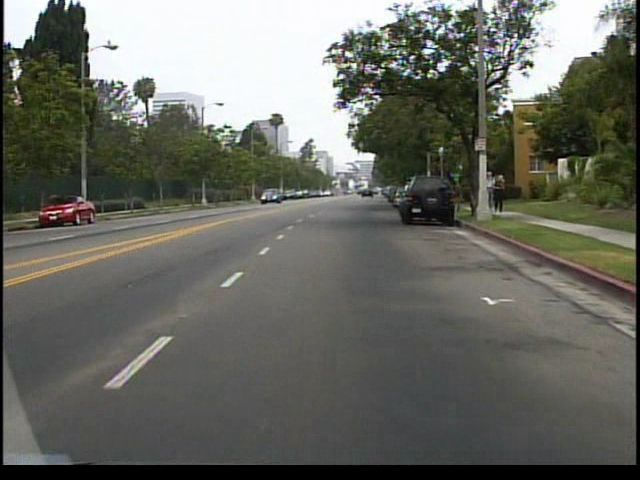person: (490, 172, 508, 216), (485, 167, 496, 212)
